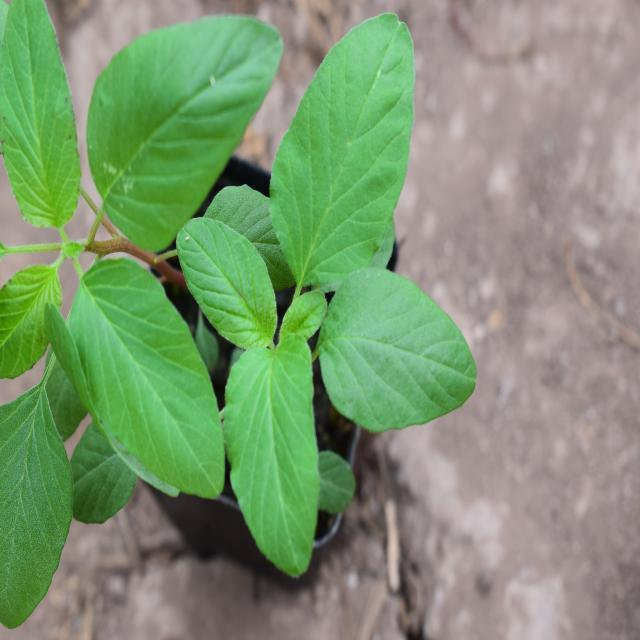pigweed: (182, 24, 484, 535)
